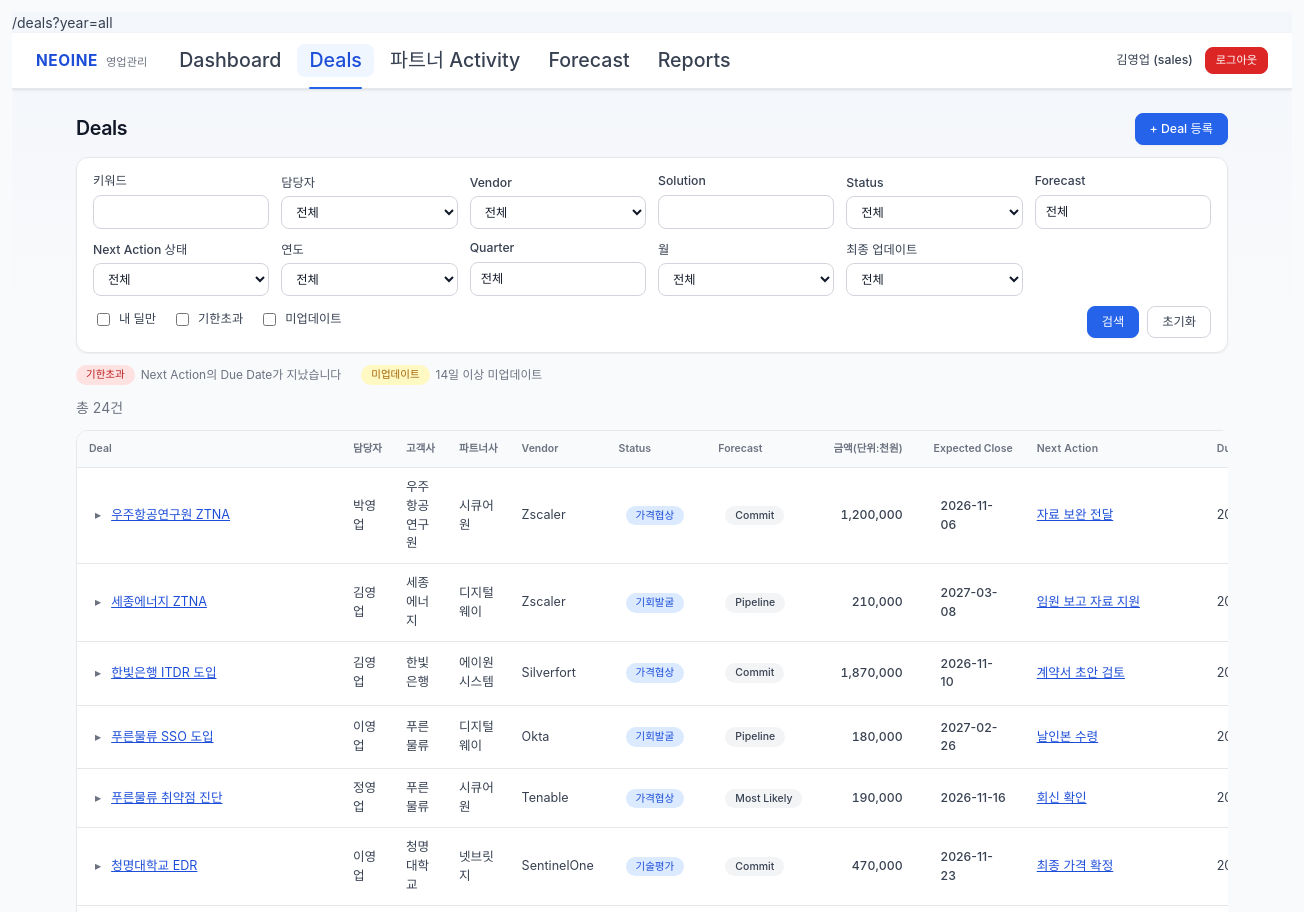
Scenario: Reports 메뉴 (Reports AC1) › opens the empty report list from the menu instead of a coming soon page
Expected: the row "한빛은행 ITDR 도입" is shown, x1=77 y1=642 x2=1228 y2=706
Click the link "Reports" at (694, 60), box x1=658 y1=48 x2=730 y2=72
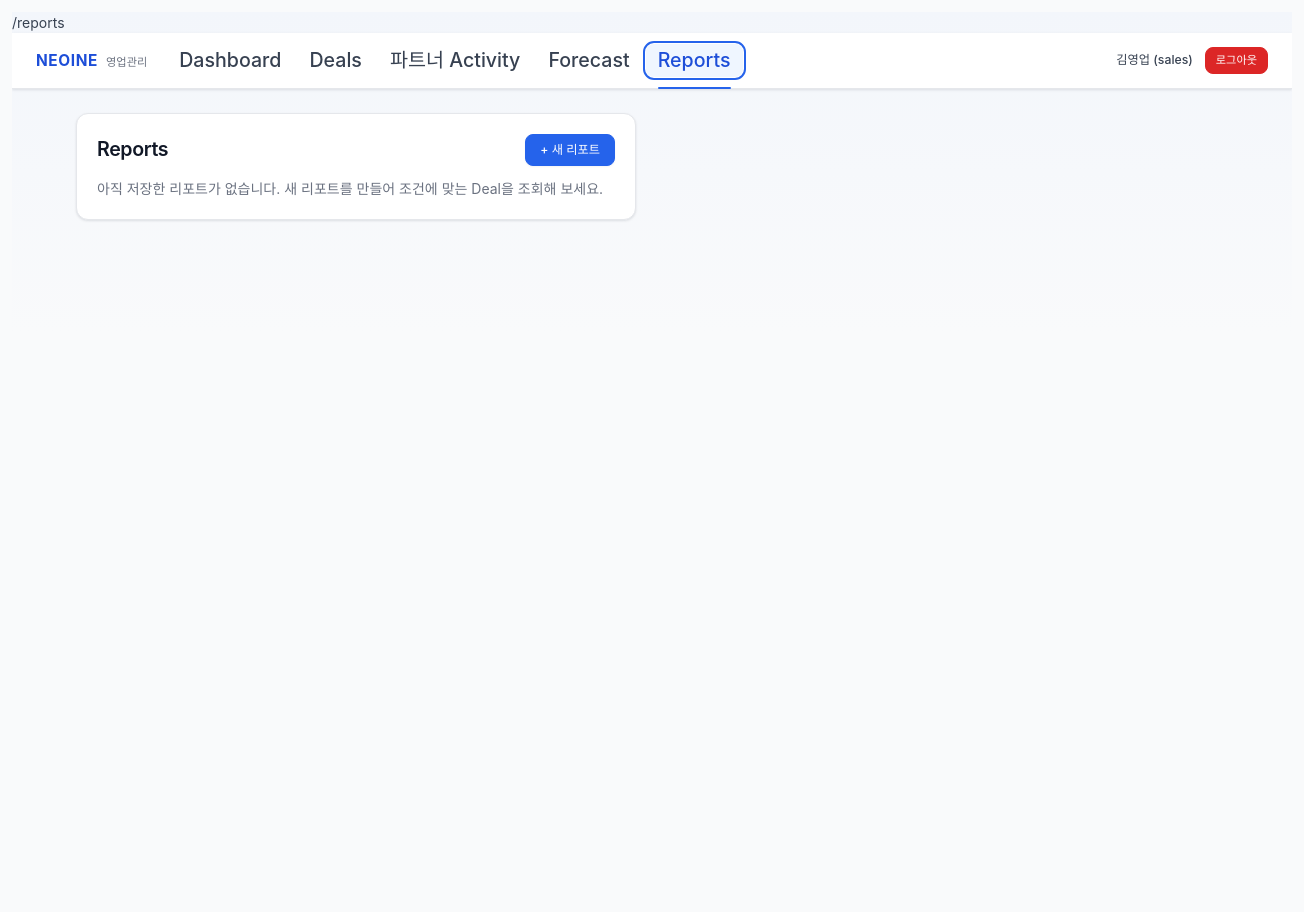
Expected: the text with test id "location" reads "/reports", x1=12 y1=14 x2=64 y2=31
Expected: the heading "Reports" is shown, x1=97 y1=136 x2=168 y2=165
Expected: the text "아직 저장한 리포트가 없습니다. 새 리포트를 만들어 조건에 맞는 Deal을 조회해 보세요." is shown, x1=97 y1=178 x2=615 y2=199
